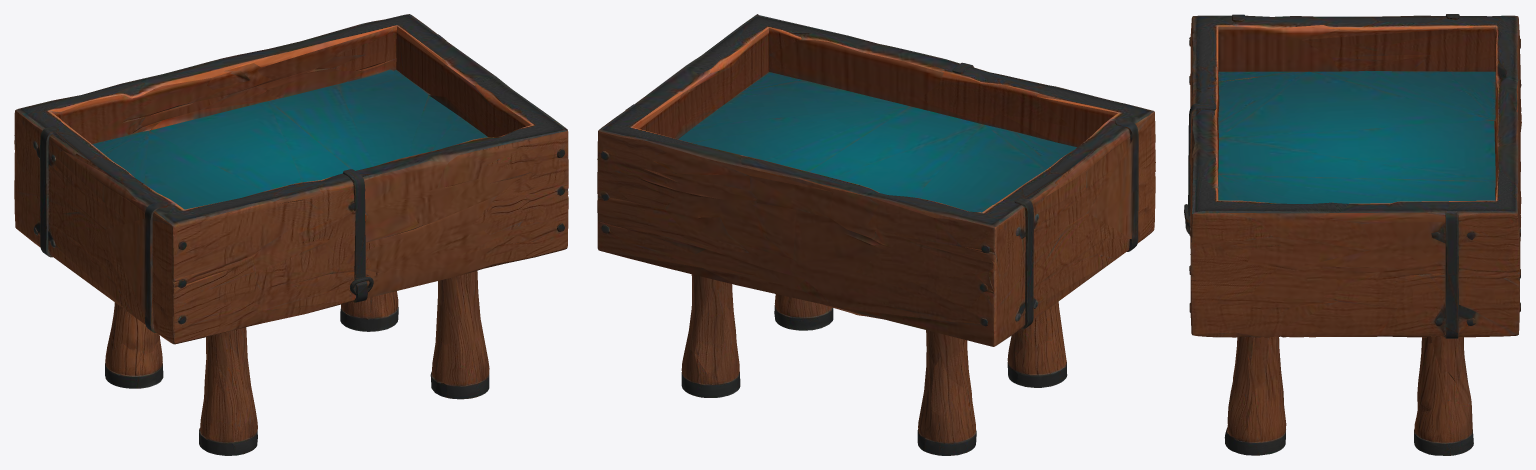
The model's file is water_trough.glb.
The picture shows the model from 3 angles, left to right: view 1: azimuth 30°, elevation 25°; view 2: azimuth 150°, elevation 25°; view 3: azimuth 270°, elevation 25°; orthographic projection. The views are drawn at different scales.
Size of the model in its own units: 1.9 by 1.2 by 1.35.
Materials: 1 (1 with a texture image).
